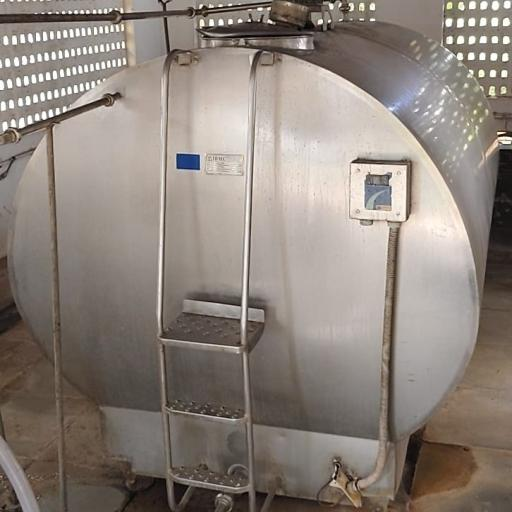silo: (7, 18, 504, 507)
